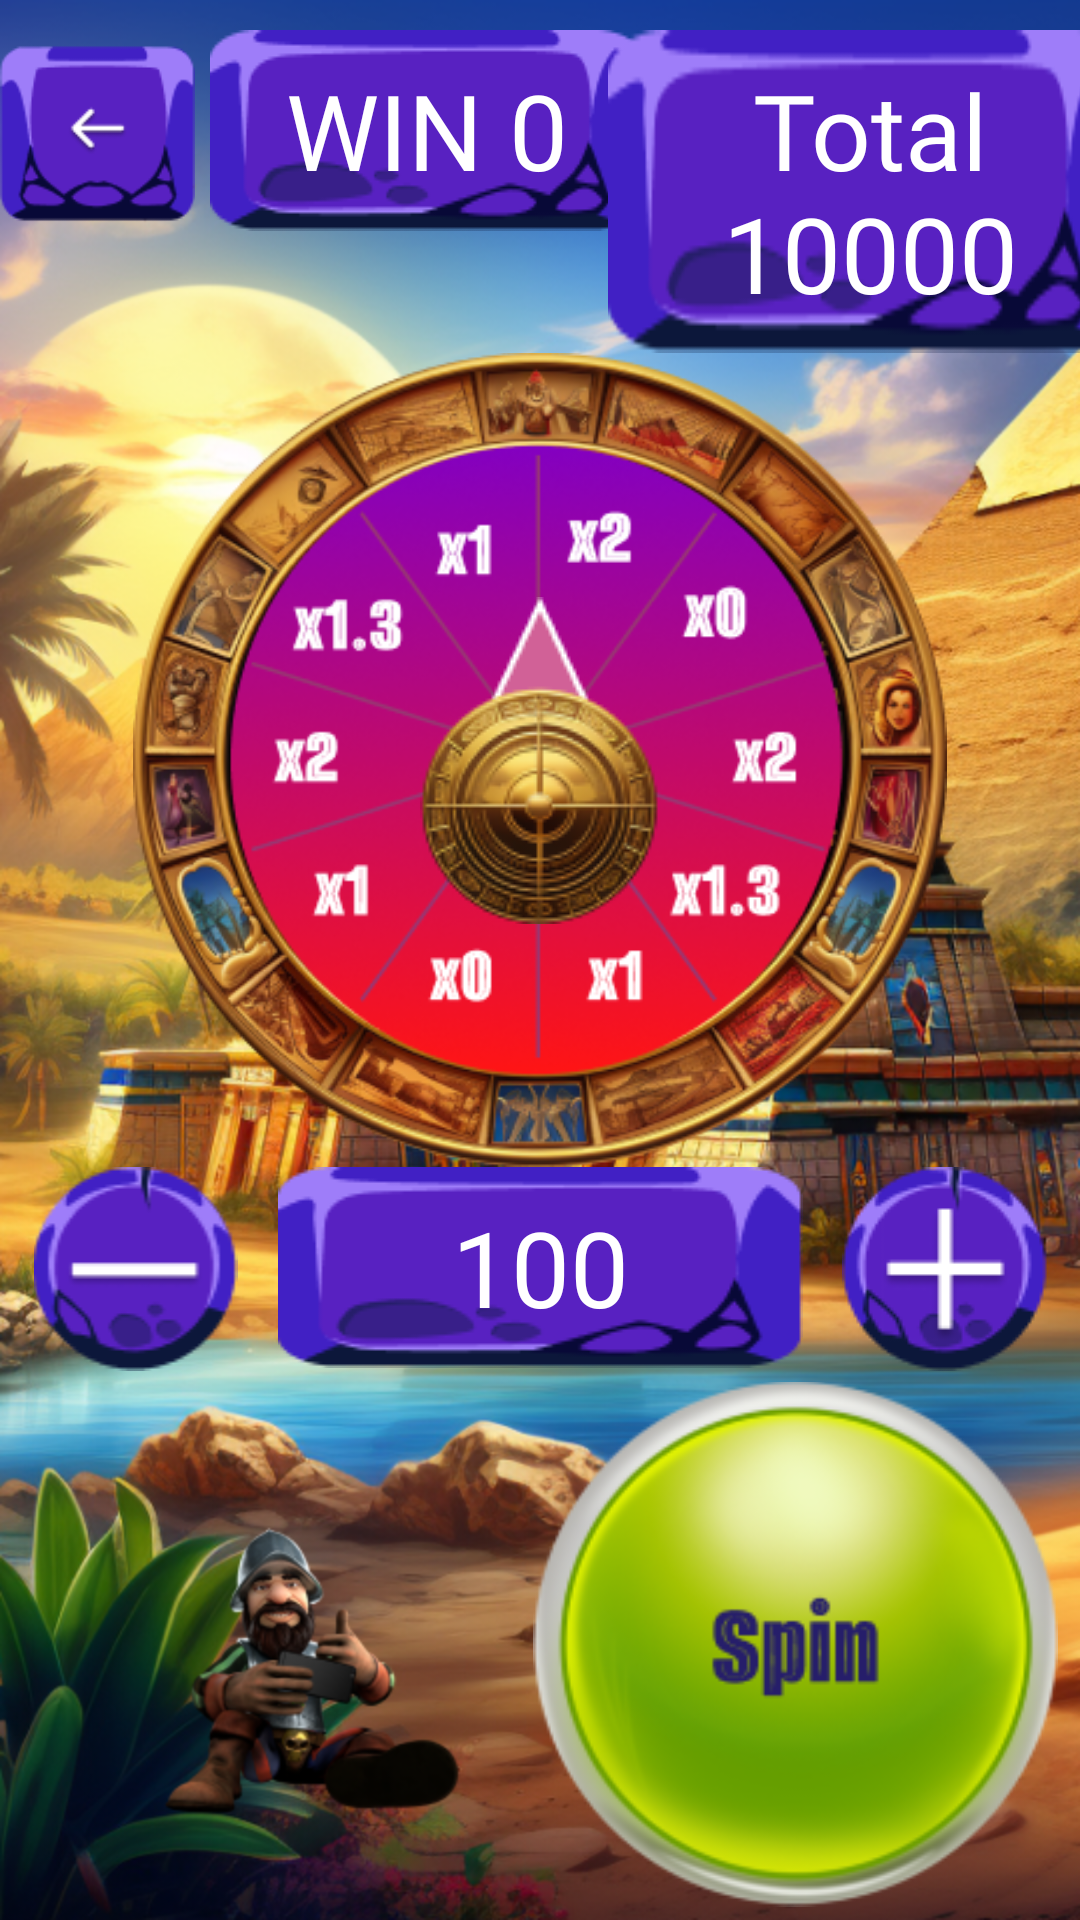

Point at icon controls on the screen. Image size 1080px x 1920px, points as (x=x, y=y).
back second: (x=97, y=133)
drum arrow: (x=540, y=760)
minus three game: (x=135, y=1269)
plus three game: (x=945, y=1269)
